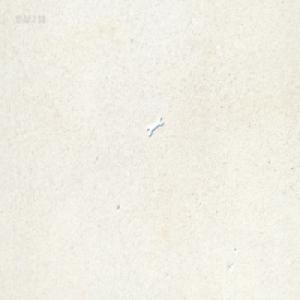Wrench: (146, 115, 164, 135)
